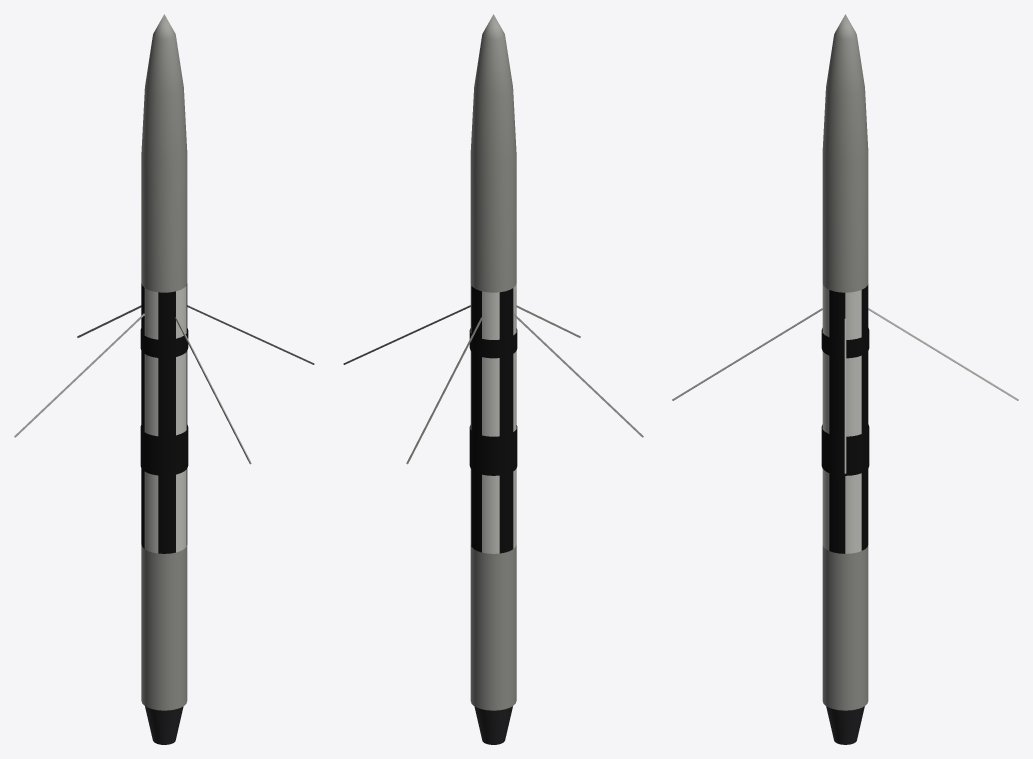
The model's file is explorer1.glb.
3 views of the same model, side by side, from view 1: azimuth 30°, elevation 25°; view 2: azimuth 150°, elevation 25°; view 3: azimuth 270°, elevation 25° (orthographic).
Visible parts, largest first — view 1: model; view 2: model; view 3: model.
Part boxes in pixels (bbox=[...]): model: bbox=[14, 14, 314, 744]; model: bbox=[343, 14, 643, 744]; model: bbox=[672, 14, 1018, 744].
Size of the model in its own units: 1.2 by 2.78 by 1.2.
Materials: 1 (1 with a texture image).
